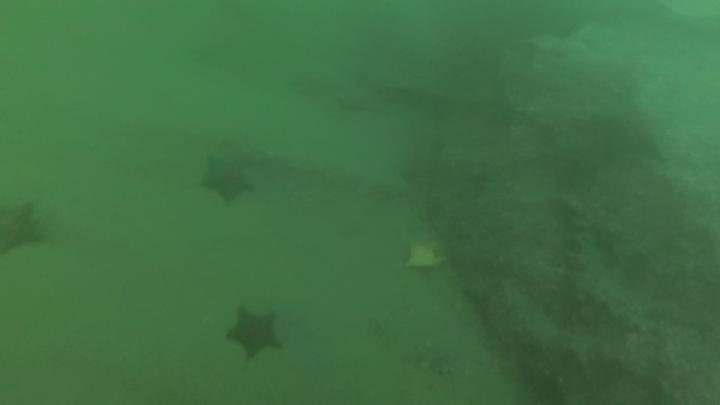starfish: (594, 85, 677, 166), (222, 304, 287, 364), (196, 152, 258, 208), (0, 197, 50, 259), (400, 235, 450, 275)
